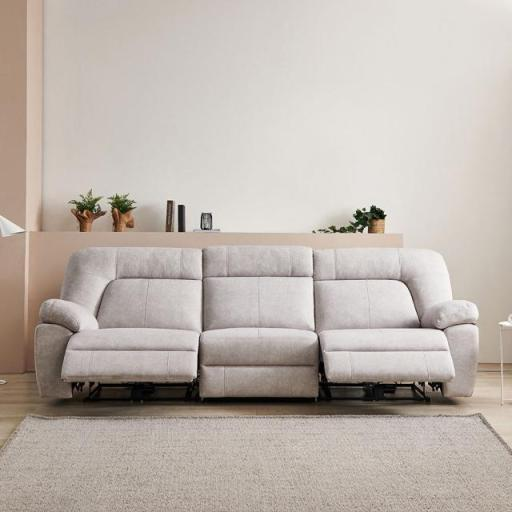sofa: (50, 238, 492, 425)
